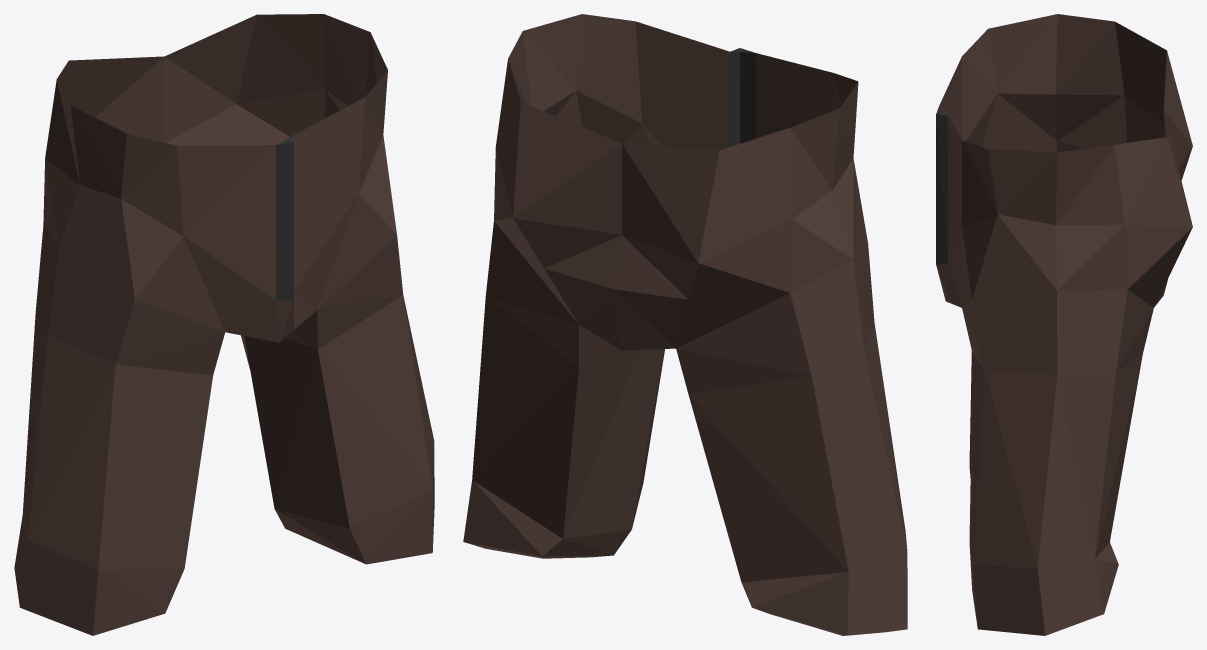
Rendered from CommonClothPants.dae.
The picture shows the model from 3 angles, left to right: view 1: azimuth 30°, elevation 25°; view 2: azimuth 150°, elevation 25°; view 3: azimuth 270°, elevation 25°; orthographic projection. The views are drawn at different scales.
Parts seen in each view (by area): view 1: Cloth2Pants; view 2: Cloth2Pants; view 3: Cloth2Pants.
Part boxes in pixels (x1,y1,x2,y2): Cloth2Pants: (14, 14, 434, 635); Cloth2Pants: (463, 14, 907, 635); Cloth2Pants: (936, 14, 1192, 635).
Bounding box in the file's own units: 2.78 × 1.58 × 3.2.
